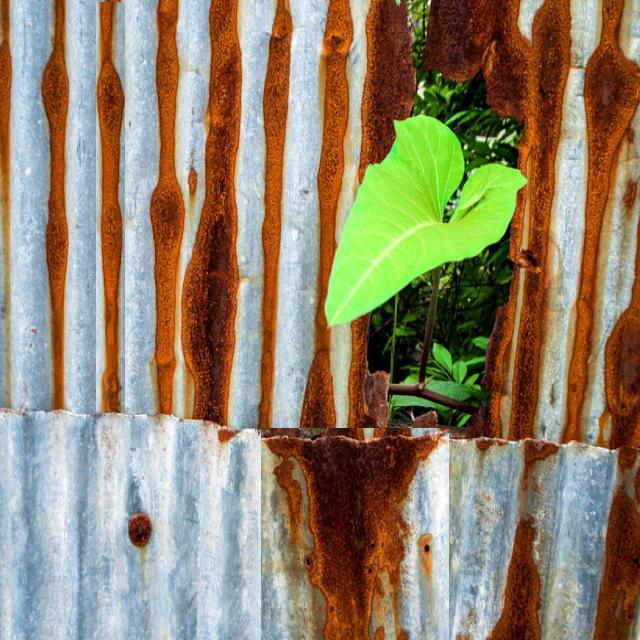Corrosion: (425, 0, 572, 440), (270, 438, 439, 640), (564, 0, 640, 441), (182, 0, 242, 422), (302, 0, 353, 428), (150, 0, 185, 414), (260, 0, 293, 428), (96, 0, 124, 412), (41, 0, 68, 410), (359, 0, 417, 180), (595, 449, 640, 640), (592, 0, 640, 154), (607, 241, 640, 448), (489, 520, 542, 640)
